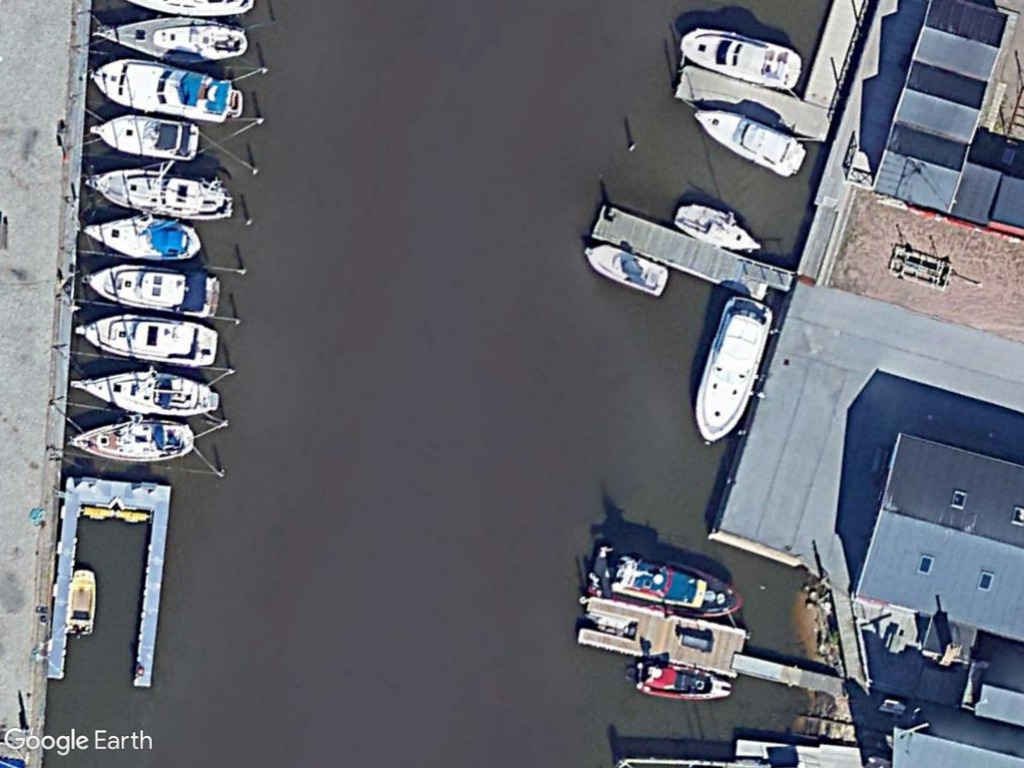boat: (686, 289, 775, 448), (591, 544, 750, 627), (89, 49, 231, 122), (80, 158, 233, 222), (688, 104, 809, 183), (74, 307, 220, 371), (677, 23, 805, 96), (66, 362, 218, 421), (90, 13, 251, 66), (78, 263, 220, 322), (75, 206, 203, 262), (62, 412, 197, 465), (81, 107, 202, 161), (579, 241, 675, 300), (670, 200, 765, 258), (632, 656, 736, 704)
